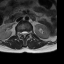CCS_normal: (23, 29, 25, 39)
LFS_normal: (27, 30, 29, 35)
LLS_normal: (25, 29, 27, 36)
RFS_normal: (19, 30, 21, 36)
RLS_normal: (21, 30, 23, 36)
